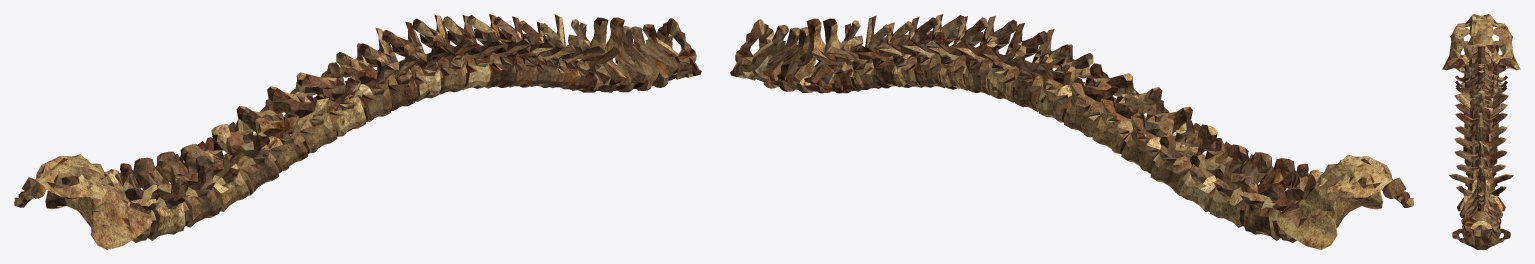
The model's file is PaletteD.obj.
3 views of the same model, side by side, from view 1: azimuth 30°, elevation 25°; view 2: azimuth 150°, elevation 25°; view 3: azimuth 270°, elevation 25° (orthographic). The views are drawn at different scales.
Visible parts, largest first — view 1: atlas_atlas.000_atlas_atlas.000; view 2: atlas_atlas.000_atlas_atlas.000; view 3: atlas_atlas.000_atlas_atlas.000.
Boxes of the visible parts, <box> form: atlas_atlas.000_atlas_atlas.000: <box>14,14,701,249</box>; atlas_atlas.000_atlas_atlas.000: <box>730,14,1413,249</box>; atlas_atlas.000_atlas_atlas.000: <box>1442,14,1520,249</box>.
Size of the model in its own units: 72.09 by 15.49 by 11.39.
